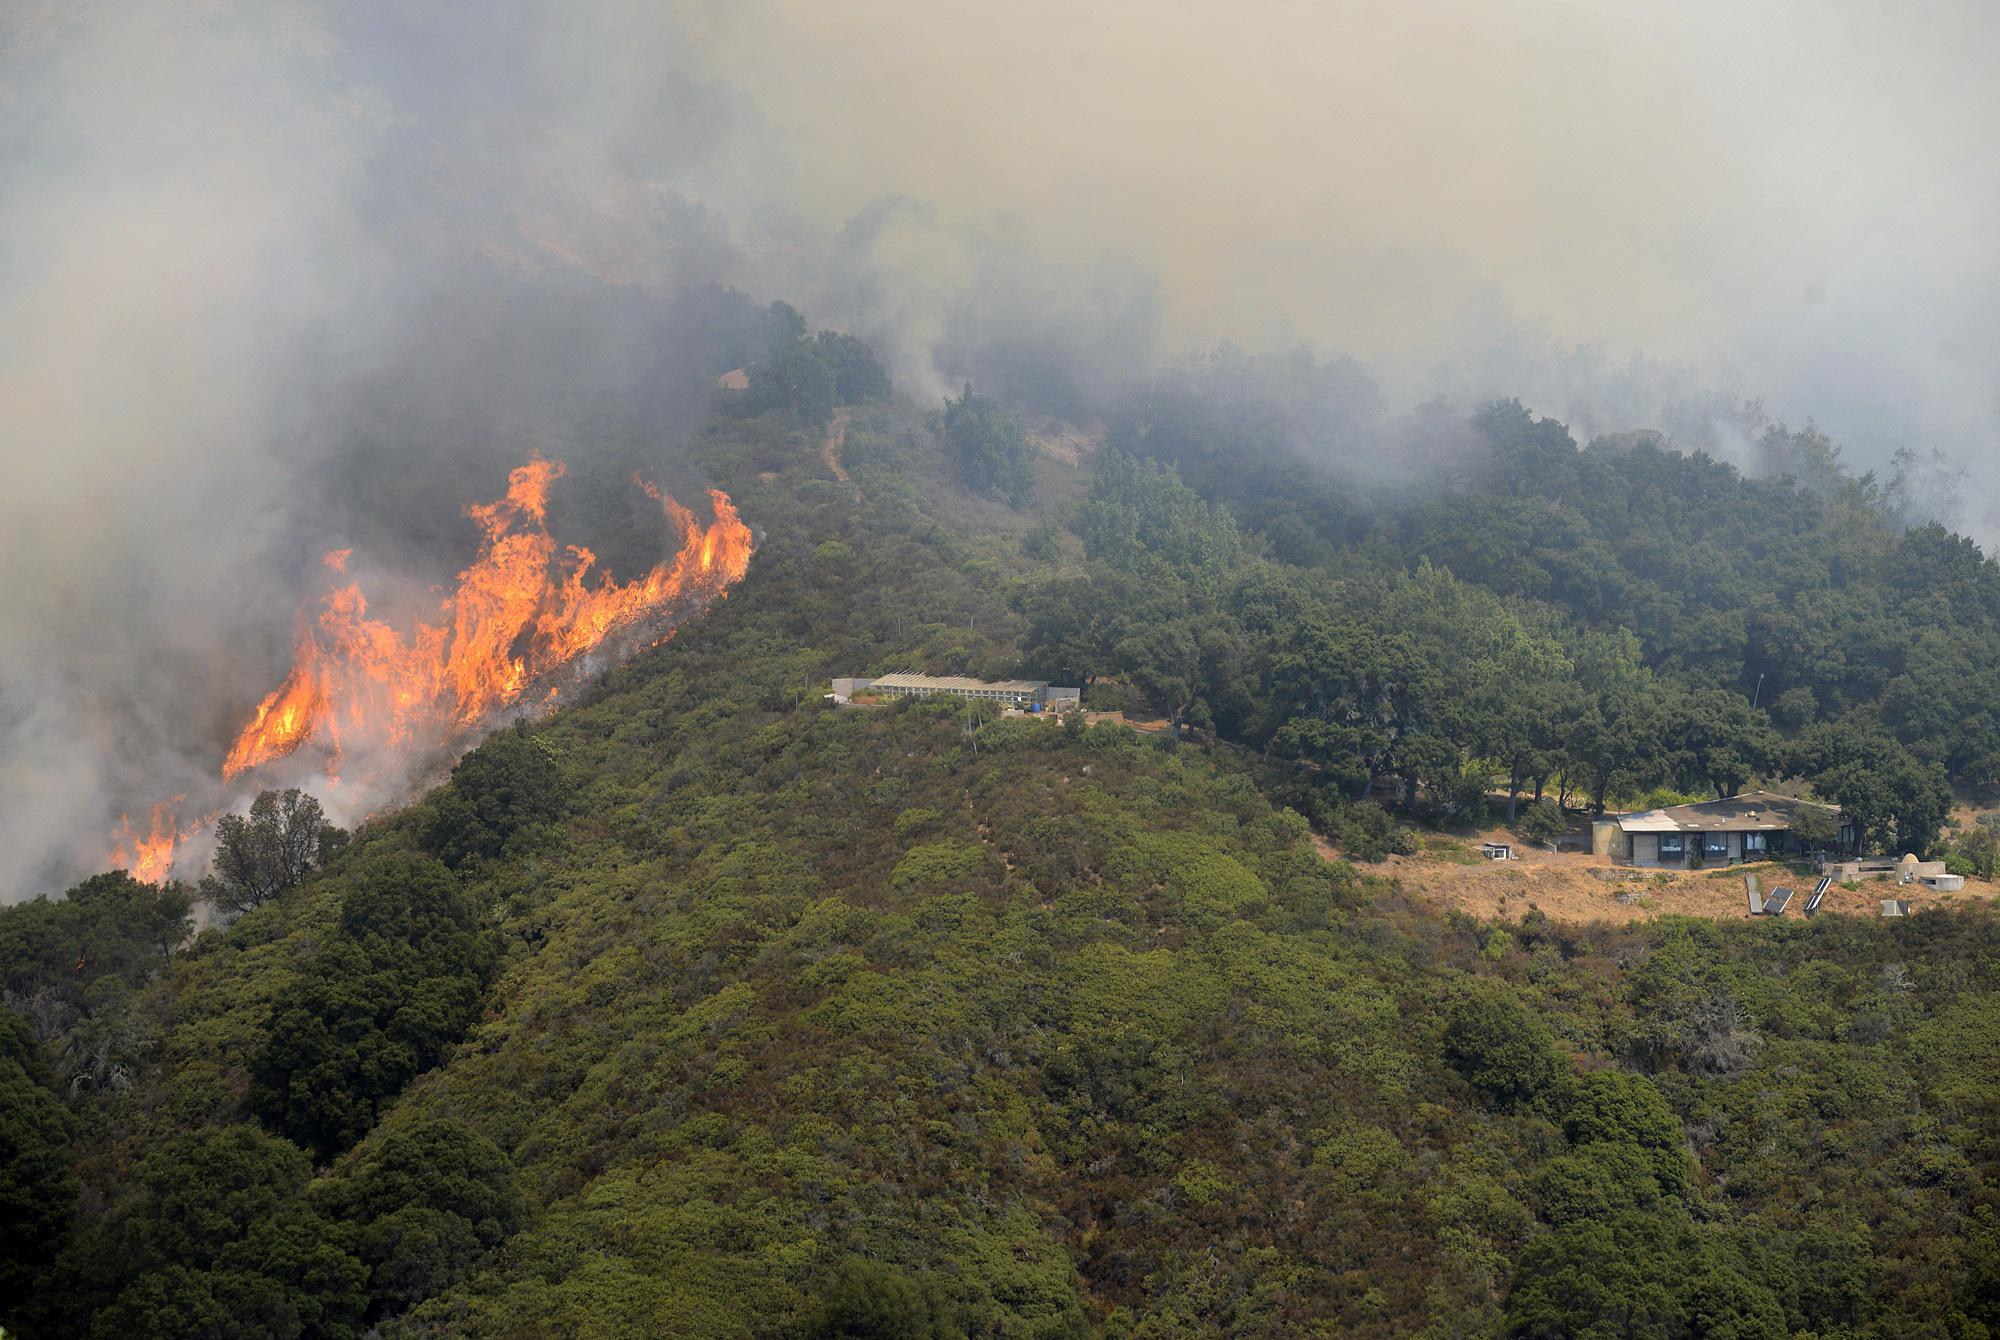fire: (176, 455, 779, 767), (93, 791, 208, 888)
